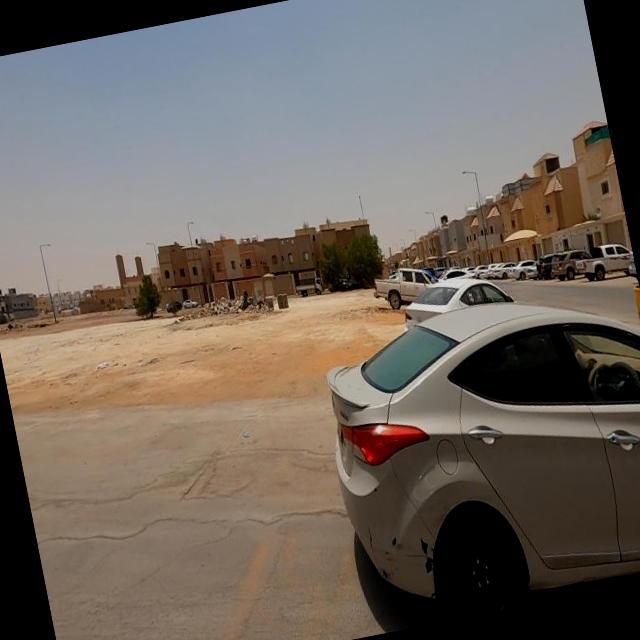debris: (220, 402, 275, 461), (218, 266, 268, 330), (209, 279, 240, 324)
